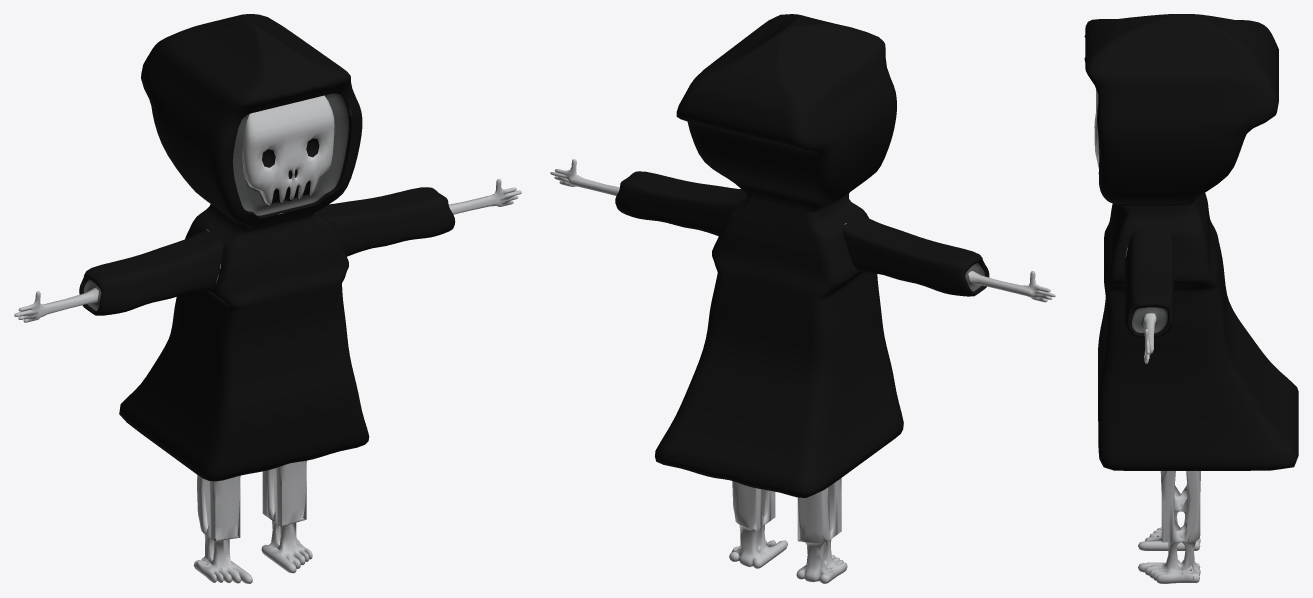
Rendered from Nadim.fbx.
The picture shows the model from 3 angles, left to right: view 1: azimuth 30°, elevation 25°; view 2: azimuth 150°, elevation 25°; view 3: azimuth 270°, elevation 25°; orthographic projection.
Visible parts, largest first — view 1: Cube; view 2: Cube; view 3: Cube.
Part boxes in pixels (x1,y1,x2,y2): Cube: (14,14,521,583); Cube: (550,14,1055,583); Cube: (1084,14,1298,583).
Bounding box in the file's own units: 664 × 676 × 240.
Materials: 1 (1 with a texture image).
